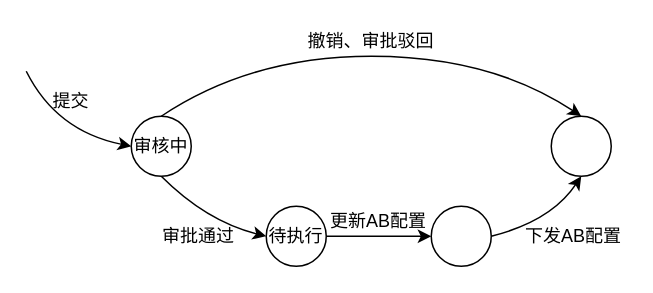
The diagram is 653 pixels wide and 293 high, and some of its shapes have lost their labels. The shapes that lost their labels are listed below. From the top down, each one's box as (x1, y1, x2, y2) in pixels, then its label:
(550, 115, 611, 176): 结束
(430, 205, 491, 266): 待同步
